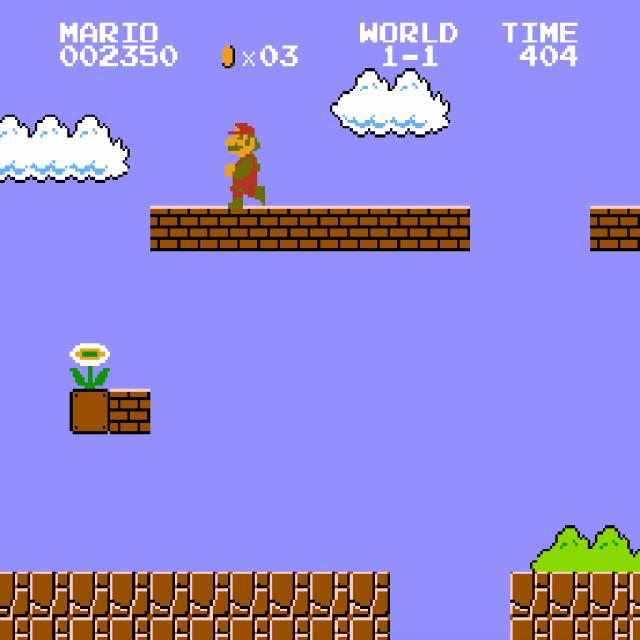big_mario: (222, 114, 265, 208)
brick_block: (110, 389, 150, 434), (150, 206, 190, 251), (190, 206, 230, 251), (230, 206, 270, 251), (270, 206, 310, 251), (310, 206, 350, 251), (350, 206, 390, 251), (390, 206, 430, 251), (430, 206, 470, 251), (590, 206, 630, 251), (629, 205, 640, 251)
empty_block: (70, 389, 110, 434)
flower: (67, 340, 110, 389)
undestructible_block: (30, 572, 70, 617), (70, 572, 110, 617), (110, 572, 150, 617), (150, 572, 190, 617), (190, 572, 230, 617), (230, 572, 270, 617), (270, 572, 310, 617), (310, 572, 350, 617), (350, 572, 390, 617), (510, 572, 550, 617), (550, 572, 590, 617), (590, 572, 630, 617), (0, 572, 30, 617), (30, 617, 70, 640), (70, 617, 110, 640), (110, 617, 150, 640), (150, 617, 190, 640), (190, 617, 230, 640), (230, 617, 270, 640), (270, 617, 310, 640), (310, 617, 350, 640), (350, 617, 390, 640), (510, 617, 550, 640), (550, 617, 590, 640), (590, 617, 630, 640), (0, 617, 30, 640), (629, 571, 640, 617), (629, 617, 640, 639)
